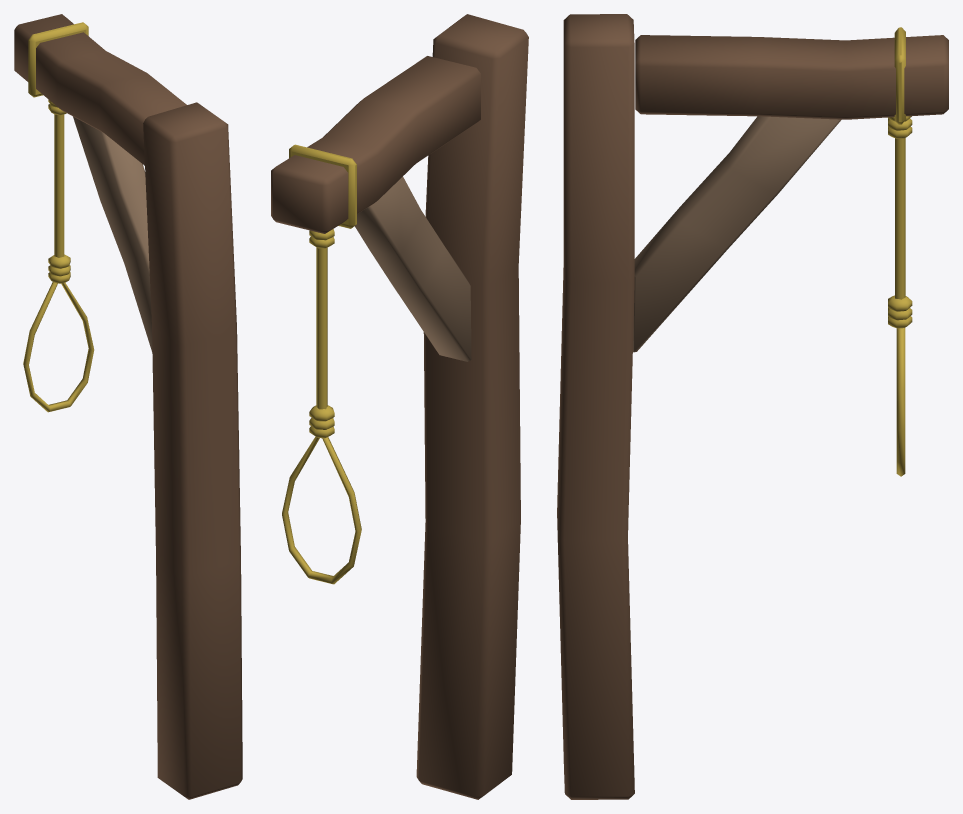
The model's file is hangedrope.fbx.
The picture shows the model from 3 angles, left to right: view 1: azimuth 30°, elevation 25°; view 2: azimuth 150°, elevation 25°; view 3: azimuth 270°, elevation 25°; orthographic projection. The views are drawn at different scales.
Visible parts, largest first — view 1: Cube; view 2: Cube; view 3: Cube.
Boxes of the visible parts, x1,y1,x2,y2 form: Cube: (14,14,242,799); Cube: (271,14,528,799); Cube: (557,14,948,799).
Size of the model in its own units: 0.2145 by 1.84 by 0.8639.
